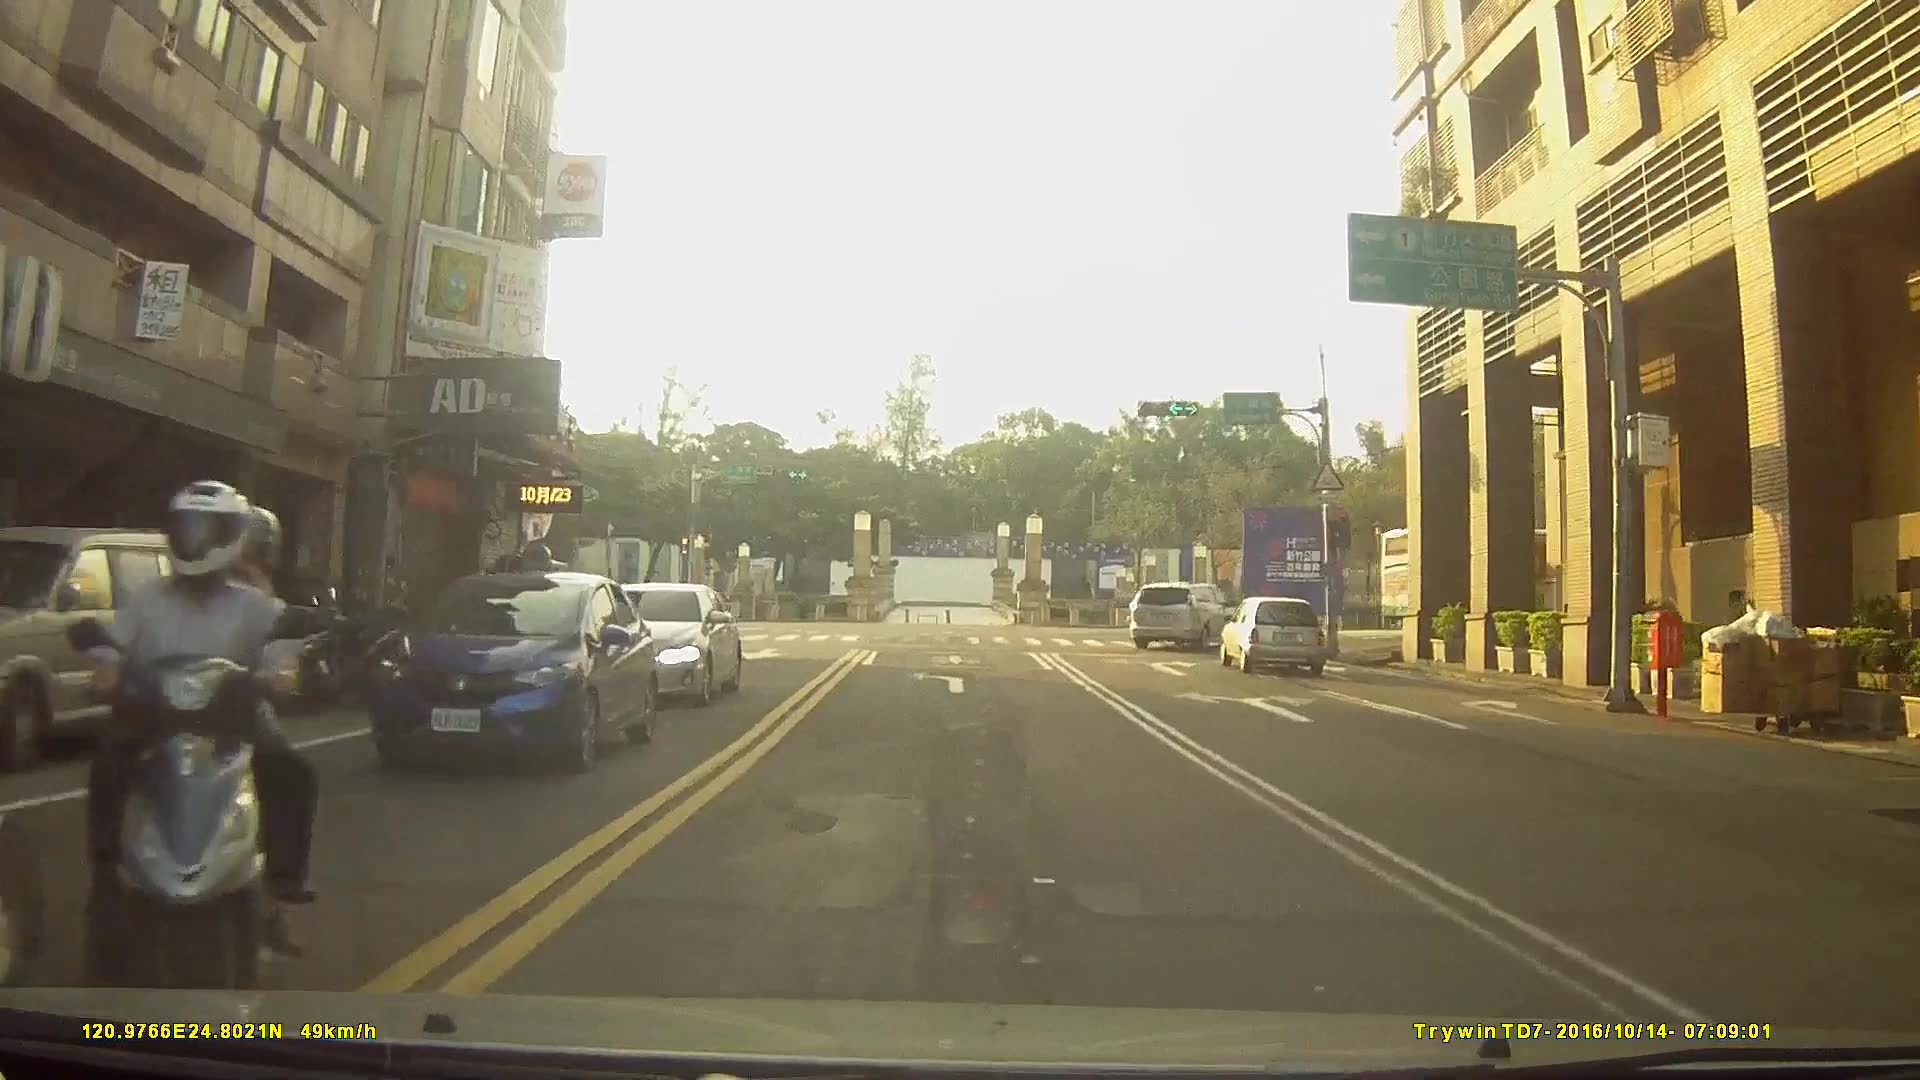rider: (28, 483, 290, 1023), (1, 470, 21, 1021)
vehicle: (0, 528, 262, 771), (363, 569, 655, 776), (563, 580, 737, 706), (1218, 594, 1324, 672), (1131, 579, 1240, 647)
